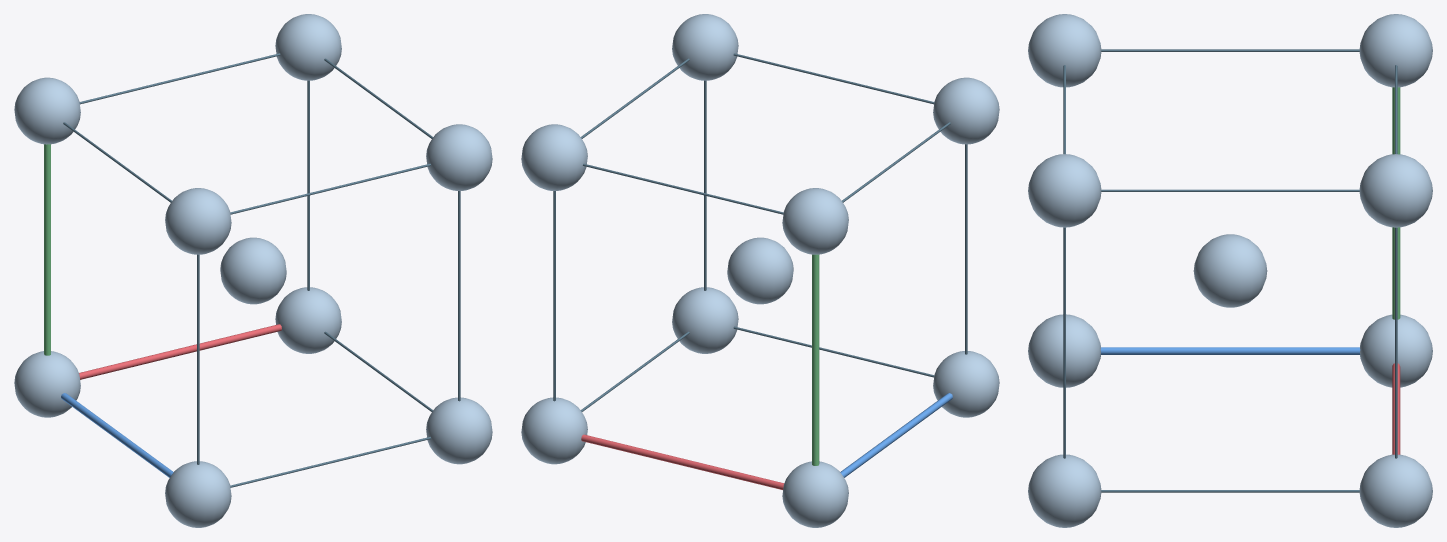
File: nguyen-to-cr.glb
3 views of the same model, side by side, from view 1: azimuth 30°, elevation 25°; view 2: azimuth 150°, elevation 25°; view 3: azimuth 270°, elevation 25° (orthographic). The views are drawn at different scales.
Parts seen in each view (by area): view 1: Cr · Cr · 1 (×9), Ô mạng và các trục a, b, c; view 2: Cr · Cr · 1 (×9), Ô mạng và các trục a, b, c; view 3: Cr · Cr · 1 (×9), Ô mạng và các trục a, b, c.
Part boxes in pixels (bbox=[...]): Cr · Cr · 1 (×9): bbox=[14, 14, 492, 527]; Ô mạng và các trục a, b, c: bbox=[44, 53, 460, 487]; Cr · Cr · 1 (×9): bbox=[521, 14, 999, 527]; Ô mạng và các trục a, b, c: bbox=[553, 53, 967, 489]; Cr · Cr · 1 (×9): bbox=[1028, 14, 1432, 527]; Ô mạng và các trục a, b, c: bbox=[1063, 49, 1400, 492].
Size of the model in its own units: 3.52 by 3.52 by 3.52.
